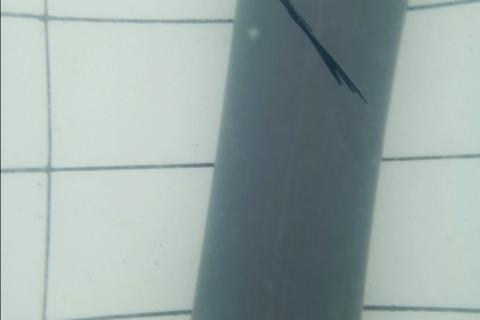keretakan: (278, 0, 369, 108)
